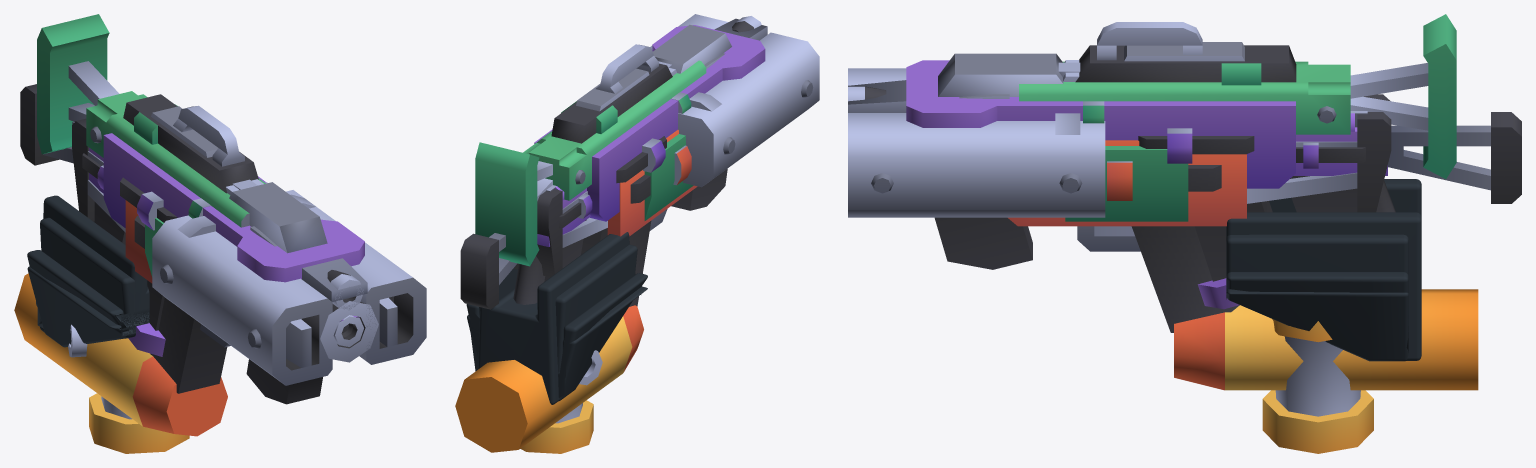
The model's file is arsenal-secondary.meshopt.glb.
3 renders of one model, left to right at view 1: azimuth 30°, elevation 25°; view 2: azimuth 150°, elevation 25°; view 3: azimuth 270°, elevation 25°, orthographic. The views are drawn at different scales.
Parts seen in each view (by area): view 1: GrenadeHousing, ScatterHousing, EMPHousing, ScatterShotBody, EMPSaddle, ScatterSaddle, GrenadeShotCanister, RailSaddle, GrenadeSaddle, RailHousing; view 2: GrenadeHousing, ScatterHousing, ScatterShotBody, RailSaddle, EMPHousing, RailHousing, ScatterSaddle, EMPSaddle, GrenadeShotCanister, GrenadeSaddle; view 3: GrenadeHousing, ScatterHousing, EMPHousing, ScatterShotBody, GrenadeShotCanister, RailHousing, EMPSaddle, RailSaddle, ScatterSaddle, GrenadeSaddle.
Boxes of the visible parts, x1,y1,x2,y2 form: GrenadeHousing: (103,106,426,404); ScatterHousing: (37,14,363,346); EMPHousing: (72,118,397,393); ScatterShotBody: (14,273,227,436); EMPSaddle: (27,266,149,347); ScatterSaddle: (40,217,135,332); GrenadeShotCanister: (68,324,189,453); RailSaddle: (40,195,149,332); GrenadeSaddle: (27,250,149,336); RailHousing: (20,84,359,321); GrenadeHousing: (534,14,819,254); ScatterHousing: (475,16,761,281); ScatterShotBody: (455,305,643,452); RailSaddle: (478,232,629,404); EMPHousing: (513,18,767,306); RailHousing: (460,185,592,309); ScatterSaddle: (479,244,637,372); EMPSaddle: (467,286,647,400); GrenadeShotCanister: (520,350,602,453); GrenadeSaddle: (466,273,647,385); GrenadeHousing: (848,42,1295,309); ScatterHousing: (848,14,1456,221); EMPHousing: (848,60,1391,332); ScatterShotBody: (1174,289,1478,390); GrenadeShotCanister: (1262,319,1373,453); RailHousing: (1293,111,1521,212); EMPSaddle: (1226,289,1408,361); RailSaddle: (1226,179,1421,360); ScatterSaddle: (1226,234,1408,276); GrenadeSaddle: (1226,272,1408,331).
Size of the model in its own units: 0.4651 by 1.02 by 1.55.
Materials: 2 (1 with a texture image).
